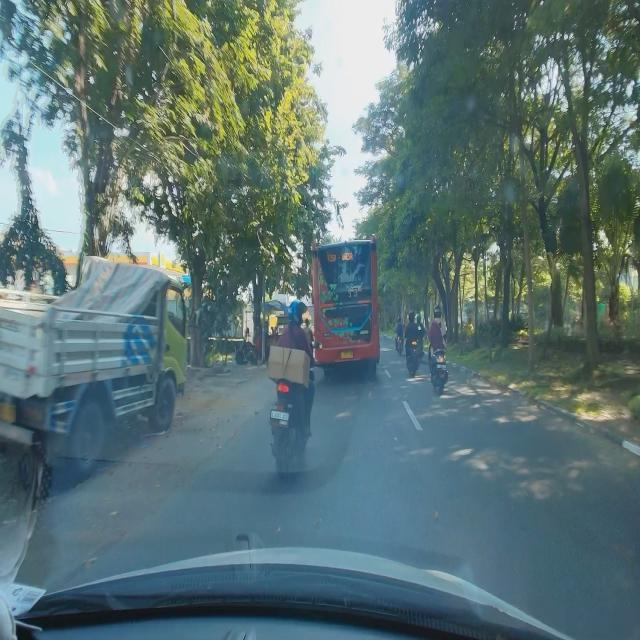bus: (308, 231, 382, 380)
license-plate: (340, 351, 354, 359)
truck: (0, 254, 191, 478)
